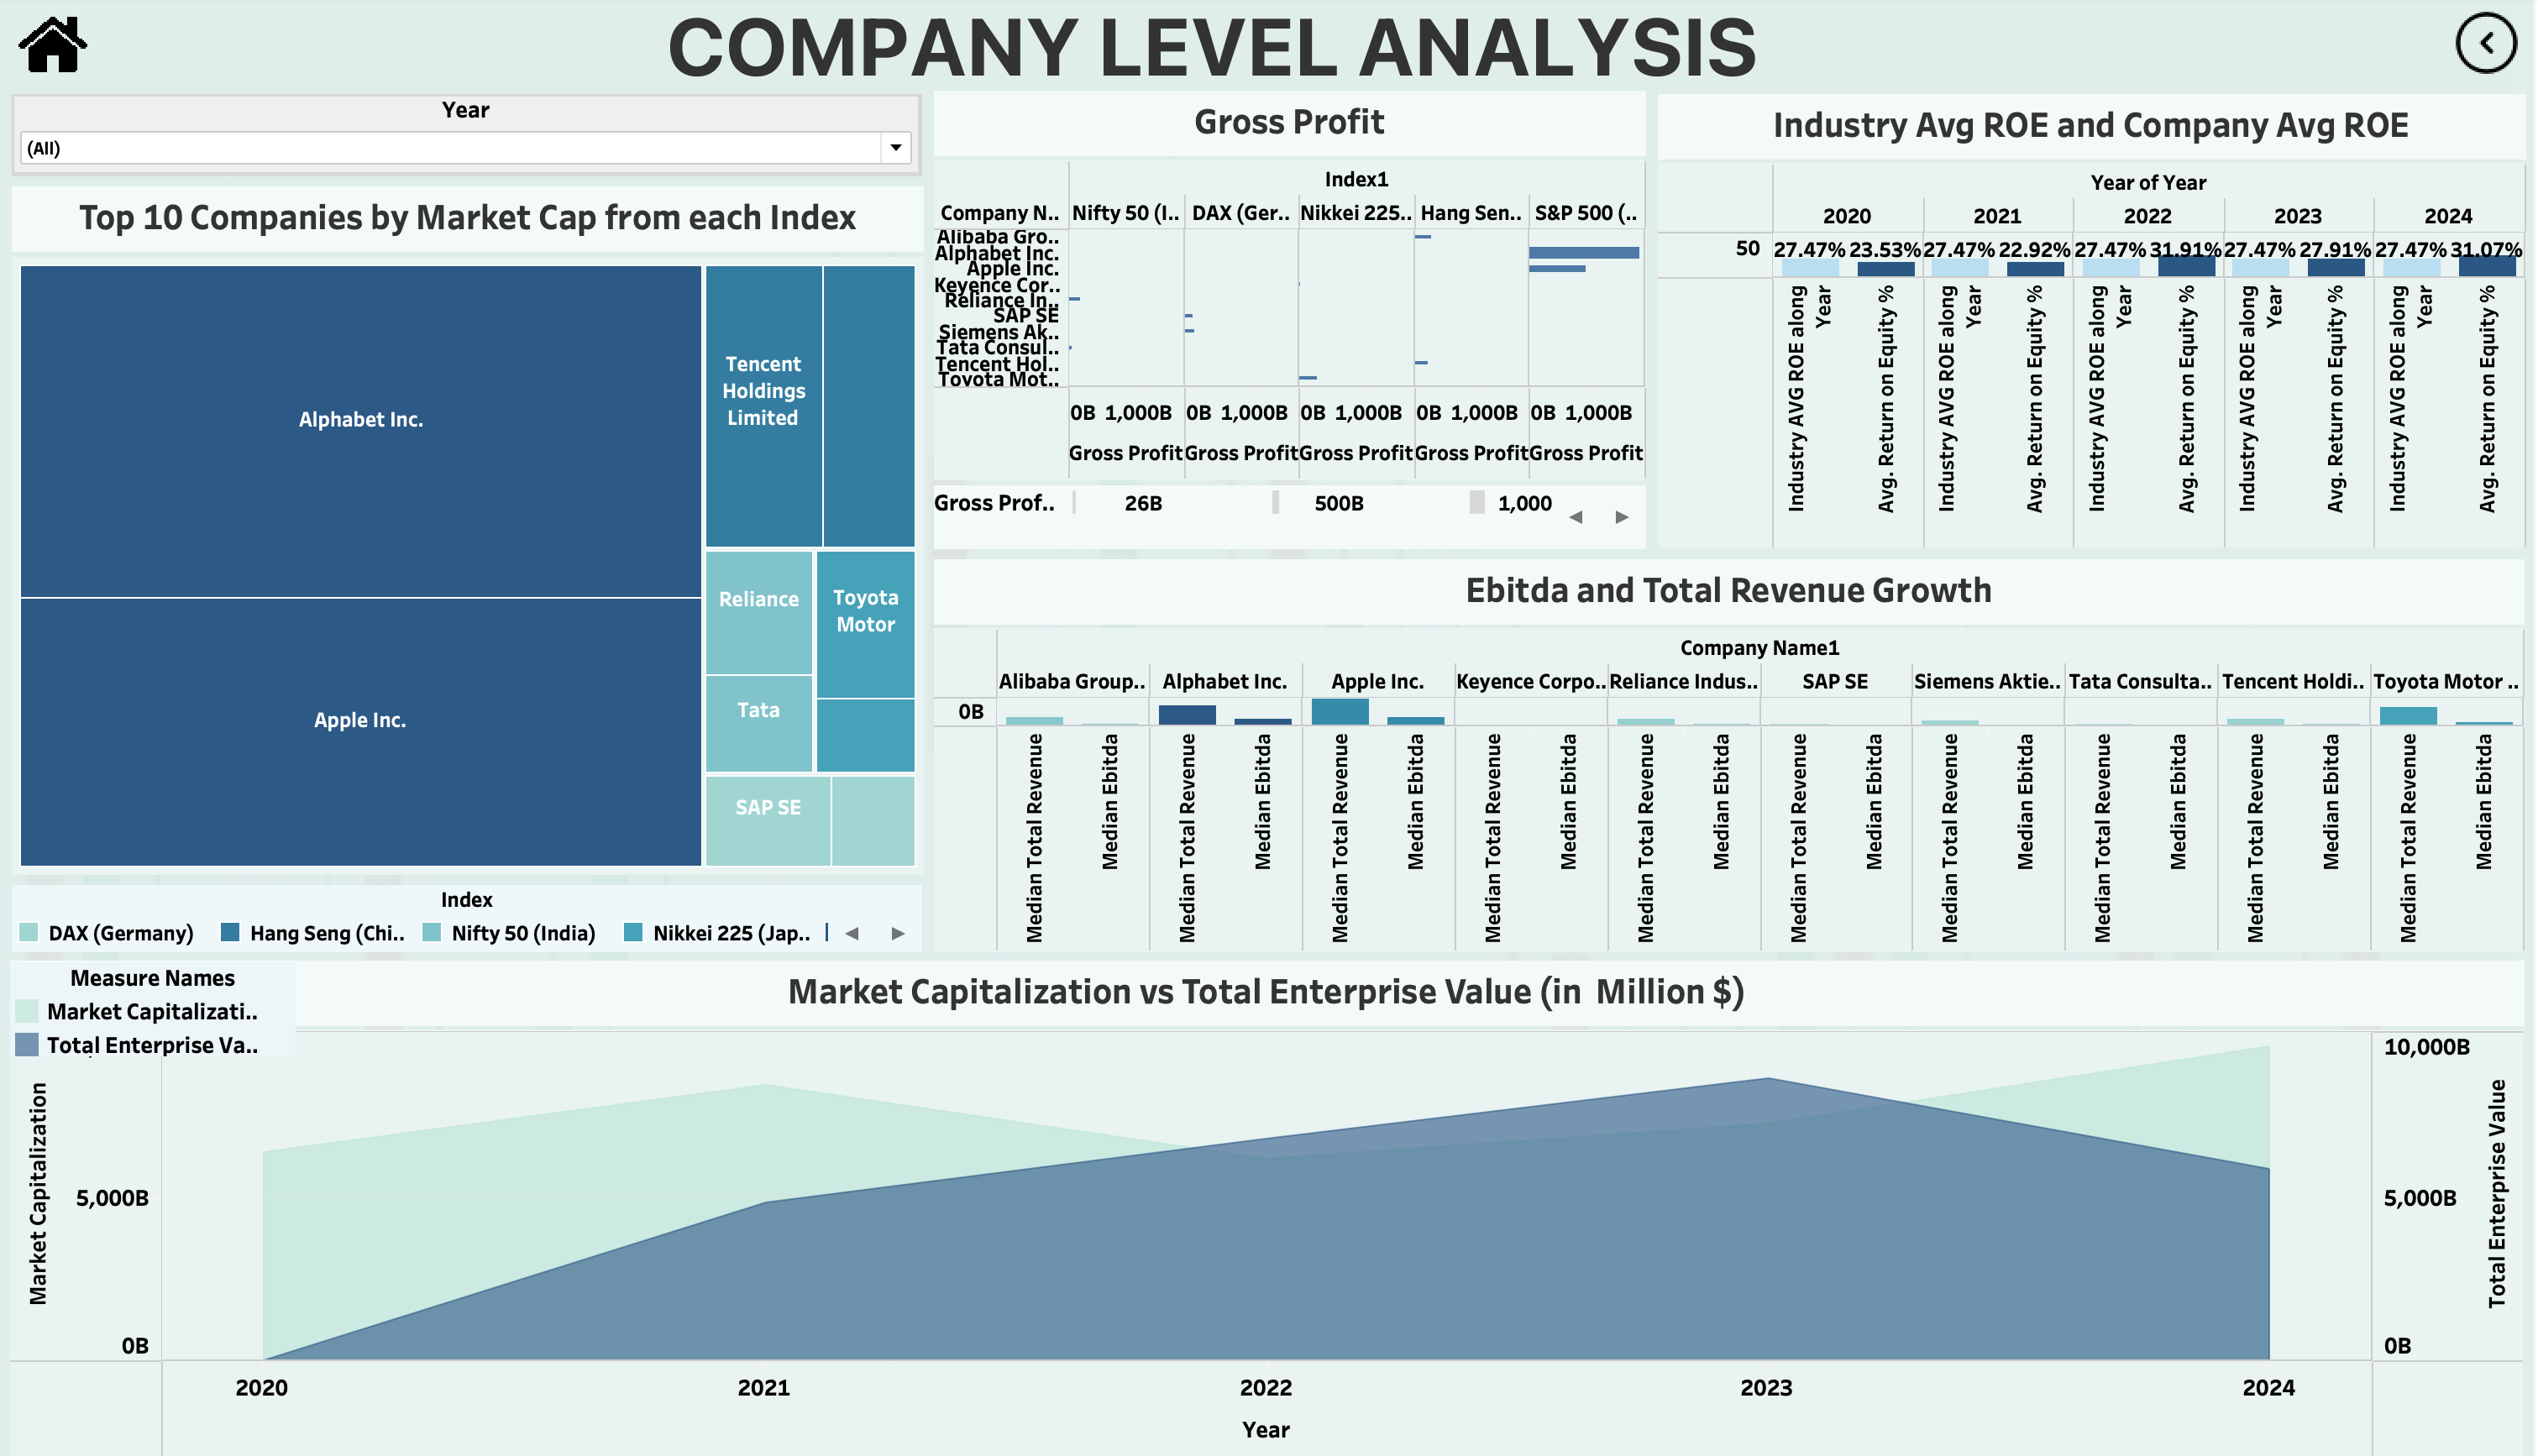

The page's visual inventory and layout, read from the dashboard file:
{"tool":"tableau","page":{"name":"Company Level Analysis","canvas":[1000,1000],"units":"permille","ordinal":0},"visuals":[{"type":"dashboard-object","box":[965.9,5.2,27.4,48.1]},{"type":"dashboard-object","box":[3.9,7.5,33.4,46.8]},{"type":"worksheet","title":"Company Info","mark":"Automatic","box":[37.9,7.5,879.7,50.5]},{"type":"worksheet","title":"Gross Profit","mark":"Automatic","rows":["Company Name"],"cols":["Index","Gross Profit"],"box":[367.7,62.6,280.3,265.5]},{"type":"worksheet","title":"Industry Avg ROE and Copany Avg ROE","mark":"Bar","cols":["Year"],"box":[648.9,64.6,346.4,330.5]},{"type":"worksheet","title":"box (3)","mark":"Automatic","box":[4.9,64.9,358.3,55.8]},{"type":"filter","title":"Top 10 Companies by Market Cap from each Index","param":"[federated.0pgchlx1p5gws61gtvl2m0kqny3y].[yr:Year:ok]","box":[6.2,64.9,355.2,54.3]},{"type":"worksheet","title":"Top 10 Companies by Market Cap from each Index","mark":"Automatic","box":[4.9,127.5,359.2,469.1]},{"type":"legend","title":"Gross Profit","param":"[federated.0pgchlx1p5gws61gtvl2m0kqny3y].[sum:Gross Profit:qk]","box":[367.5,331.6,279.1,44.5]},{"type":"worksheet","title":"Ebitda and Total Revenue Growth","mark":"Automatic","cols":["Company Name"],"box":[367.7,381.6,626.6,267.7]},{"type":"legend","title":"Top 10 Companies by Market Cap from each Index","param":"[federated.0pgchlx1p5gws61gtvl2m0kqny3y].[none:Index:nk]","box":[4.5,603.3,358.7,46]},{"type":"worksheet","title":"Market Capitalization vs Total Enterprise Value (in Billion $)","mark":"Area","rows":["Market Capitalization","Total Enterprise Value"],"cols":["Year"],"box":[4,655.4,989.8,338.6]},{"type":"legend","title":"Market Capitalization vs Total Enterprise Value (in Billion $)","param":"[federated.0pgchlx1p5gws61gtvl2m0kqny3y].[:Measure Names]","box":[4,656.1,112.3,64.1]}]}

Visuals, with their boxes on the dashboard's canvas, which has no fixed pixel size, in thousandths of its width and height (x1, y1, x2, y2). These are canvas units, not pixel positions in the 2538x1456 screenshot, which may show the page scaled, cropped or inside an application window:
dashboard-object: 966, 5, 993, 53
dashboard-object: 4, 8, 37, 54
"Company Info" worksheet: 38, 8, 918, 58
"Gross Profit" worksheet: 368, 63, 648, 328
"Industry Avg ROE and Copany Avg ROE" worksheet (Bar marks): 649, 65, 995, 395
"box (3)" worksheet: 5, 65, 363, 121
"Top 10 Companies by Market Cap from each Index" filter: 6, 65, 361, 119
"Top 10 Companies by Market Cap from each Index" worksheet: 5, 128, 364, 597
"Gross Profit" legend: 368, 332, 647, 376
"Ebitda and Total Revenue Growth" worksheet: 368, 382, 994, 649
"Top 10 Companies by Market Cap from each Index" legend: 4, 603, 363, 649
"Market Capitalization vs Total Enterprise Value (in Billion $)" worksheet (Area marks): 4, 655, 994, 994
"Market Capitalization vs Total Enterprise Value (in Billion $)" legend: 4, 656, 116, 720
